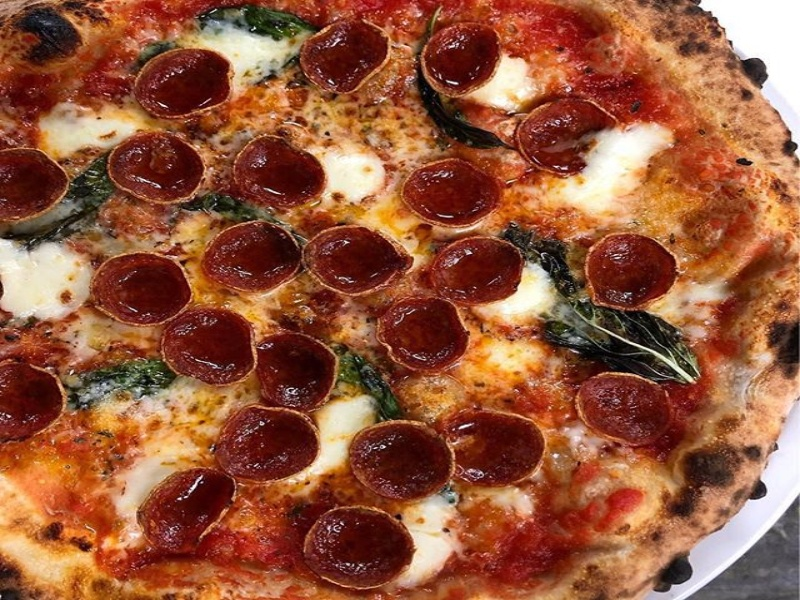peperoni: (429, 407, 551, 493), (296, 503, 416, 589), (517, 93, 623, 187), (345, 418, 457, 504), (133, 468, 237, 553), (87, 250, 195, 327), (211, 407, 324, 480), (304, 219, 406, 297), (574, 369, 674, 448), (128, 47, 237, 119), (161, 309, 260, 388), (579, 230, 685, 303), (200, 220, 299, 298), (107, 131, 207, 208), (300, 20, 393, 101), (421, 234, 525, 306), (248, 330, 340, 411), (232, 134, 328, 210), (400, 156, 504, 226), (378, 295, 471, 371), (417, 20, 502, 98), (1, 355, 69, 443), (1, 144, 70, 224)
